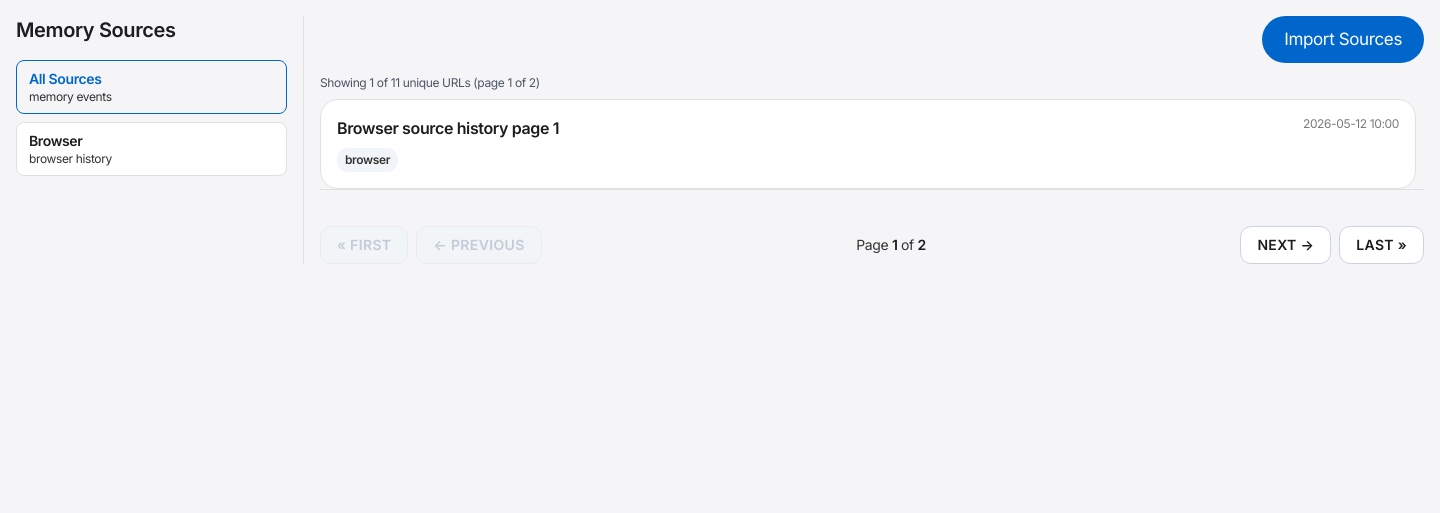
Scenario: SourceManagementPanel › shows source summary above paginated source history and settings without extra source tabs
Click the button "Browser browser history": [56, 140] box [16, 122, 287, 176]
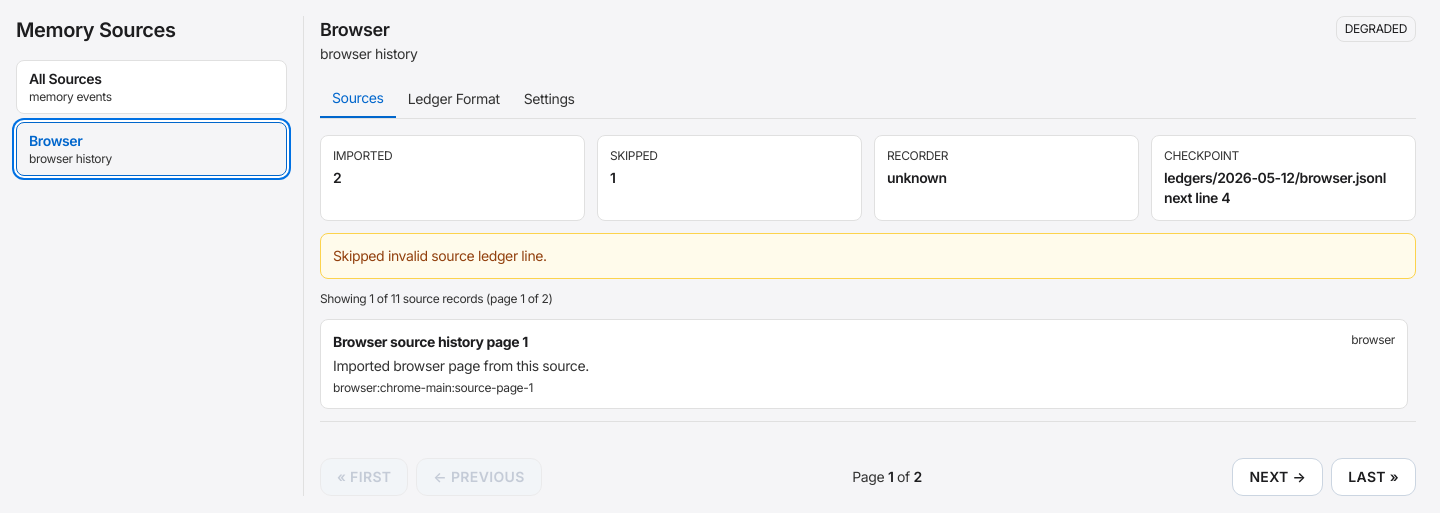
Expected: the text "degraded" is shown, [1336, 16, 1416, 42]
Expected: the text "Imported" is shown, [333, 148, 392, 163]
Expected: the text "2" in the row of "unknown" is shown, [333, 169, 341, 186]
Click the button with aria-label "Next page": [1278, 477] box [1232, 458, 1323, 496]
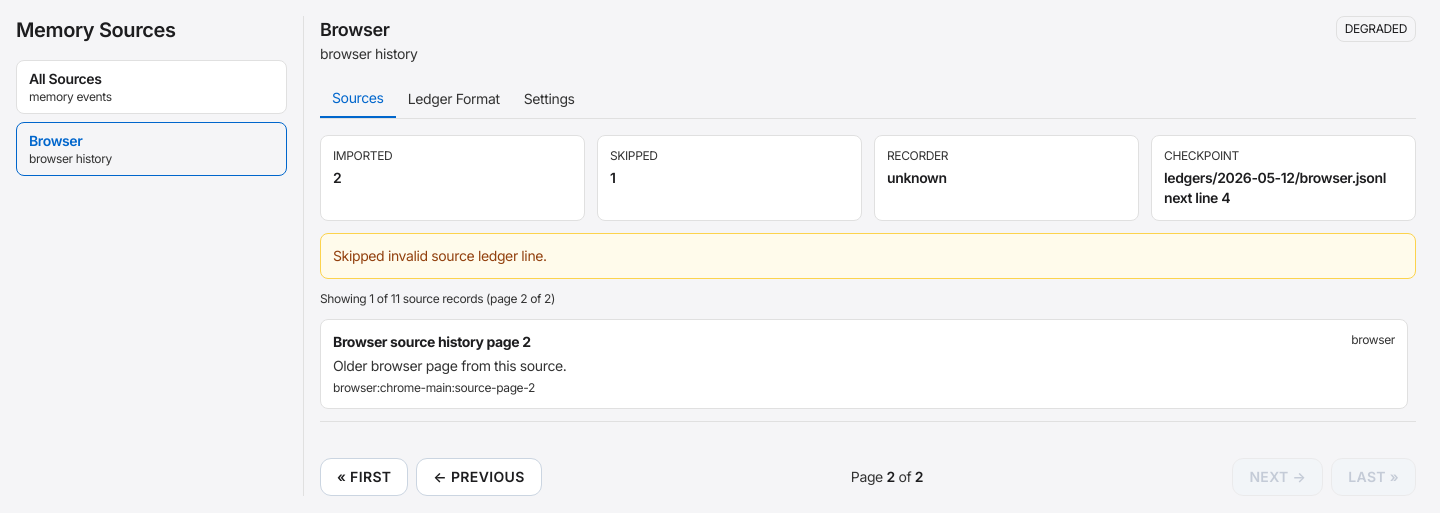
Expected: the text "Browser source history page 2" is shown, [333, 332, 531, 352]
Expected: the text "Older browser page from this source." is shown, [333, 357, 566, 374]
Click the tab "Settings": [549, 99] box [512, 80, 587, 118]
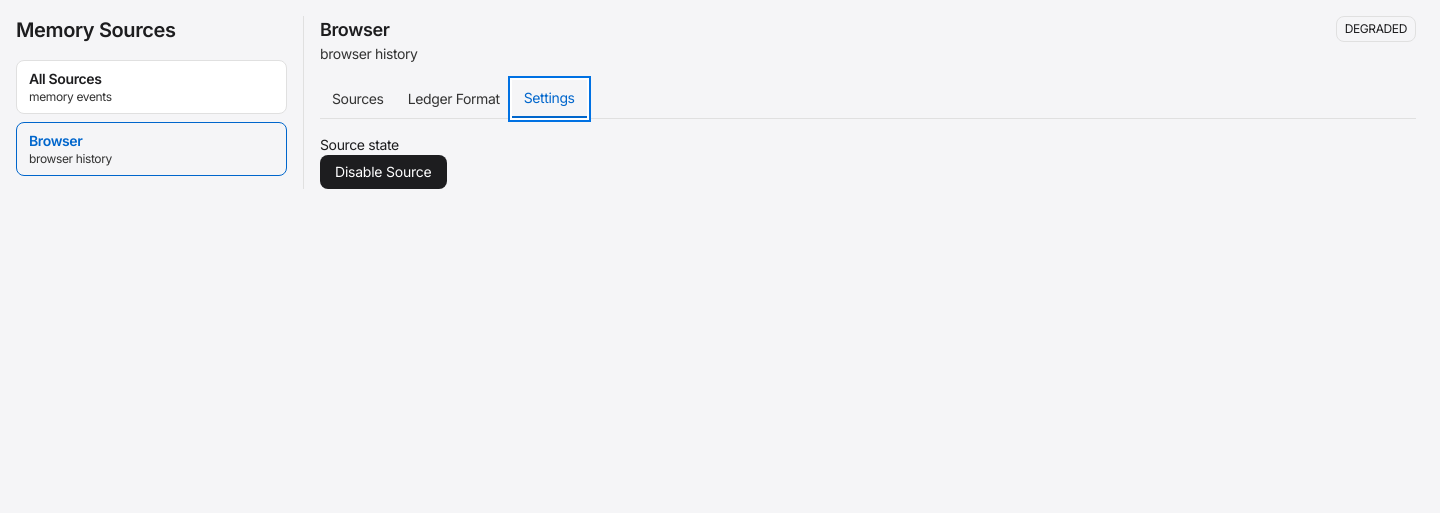
Click the button "Disable Source": [383, 172] box [320, 155, 446, 189]
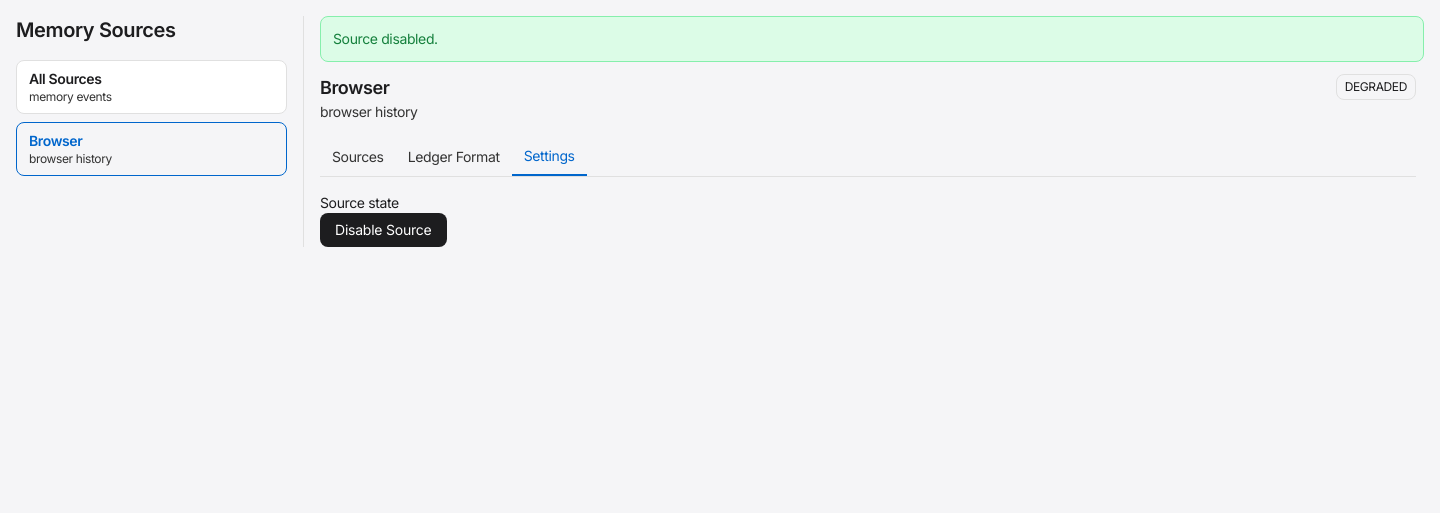
Expected: the text "Source disabled." is shown, [320, 16, 1424, 62]
